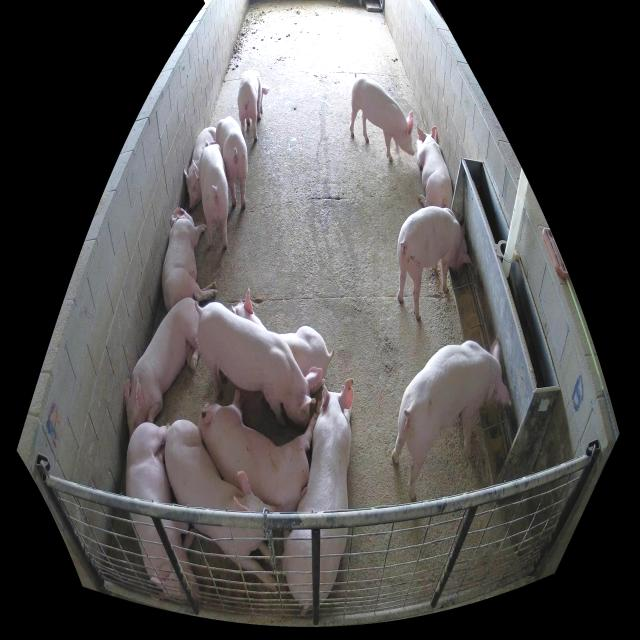pig: (165, 420, 280, 591), (391, 337, 511, 499), (283, 375, 352, 610), (195, 302, 322, 428), (199, 389, 316, 514), (126, 423, 204, 605), (230, 286, 330, 394), (125, 299, 200, 438), (397, 206, 473, 321), (161, 206, 218, 314), (349, 74, 416, 163), (199, 141, 229, 249), (416, 124, 453, 208), (216, 116, 248, 209), (183, 126, 216, 209), (238, 70, 272, 141)
